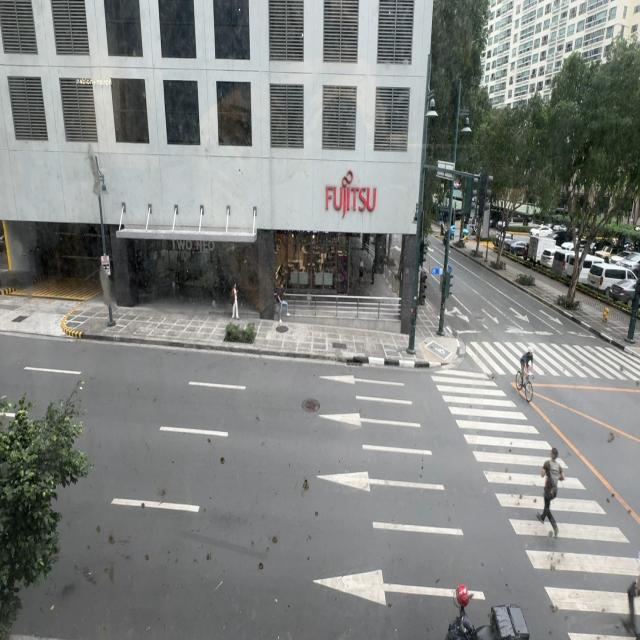crossing: (534, 444, 565, 539)
pedestrain: (277, 289, 289, 323), (232, 283, 240, 321)
